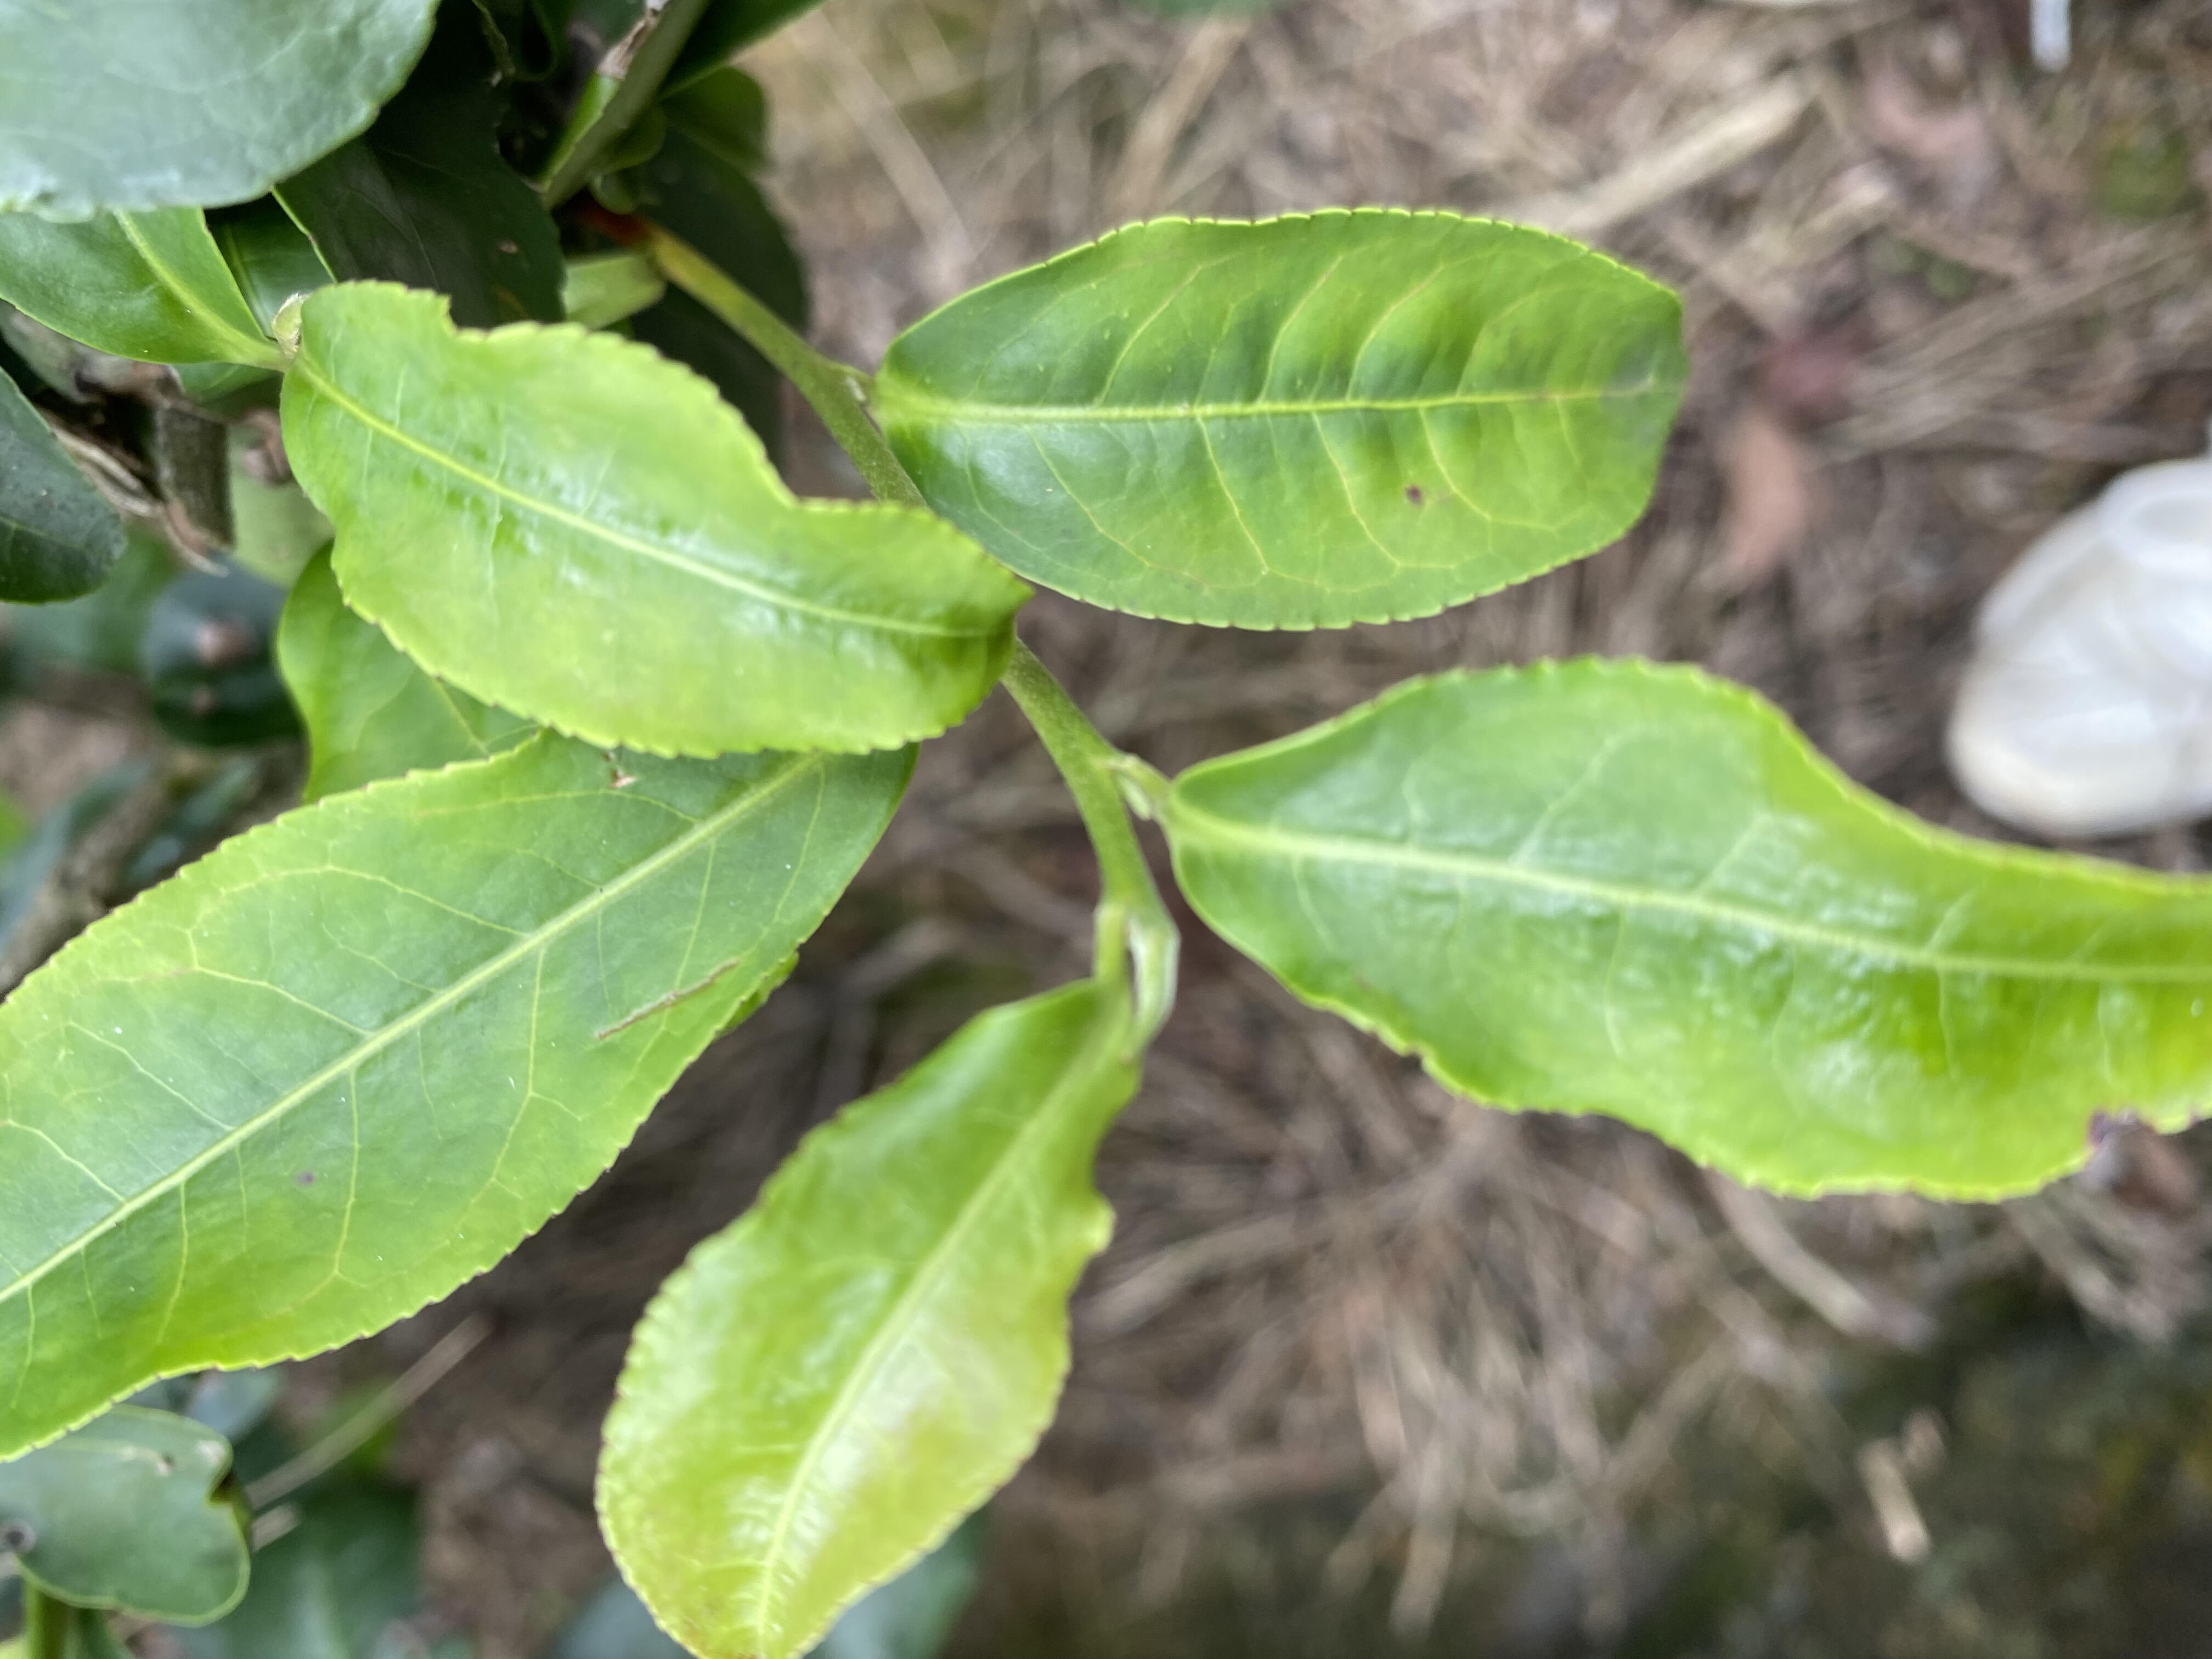healthy: (592, 983, 1141, 1657), (275, 277, 1035, 763)
tanju_low: (1165, 655, 2207, 1209), (878, 206, 1691, 643)
